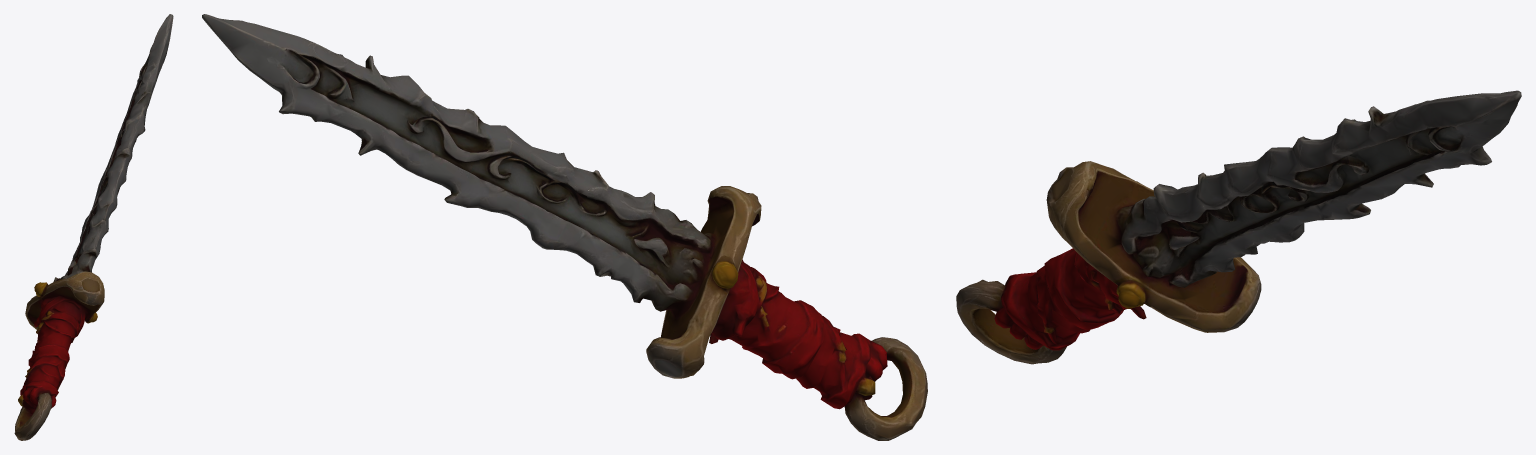
Rendered from sword-flame.glb.
3 views of the same model, side by side, from view 1: azimuth 30°, elevation 25°; view 2: azimuth 150°, elevation 25°; view 3: azimuth 270°, elevation 25° (orthographic). The views are drawn at different scales.
Visible parts, largest first — view 1: tripo_node_d2062ba1-c862-43f6-ba59-d0238ad57ea4; view 2: tripo_node_d2062ba1-c862-43f6-ba59-d0238ad57ea4; view 3: tripo_node_d2062ba1-c862-43f6-ba59-d0238ad57ea4.
Boxes of the visible parts, x1,y1,x2,y2 form: tripo_node_d2062ba1-c862-43f6-ba59-d0238ad57ea4: (14,14,173,440); tripo_node_d2062ba1-c862-43f6-ba59-d0238ad57ea4: (202,14,927,440); tripo_node_d2062ba1-c862-43f6-ba59-d0238ad57ea4: (956,90,1521,364).
Bounding box in the file's own units: 1 × 0.8993 × 0.8618.
1 material, 1 textured.
